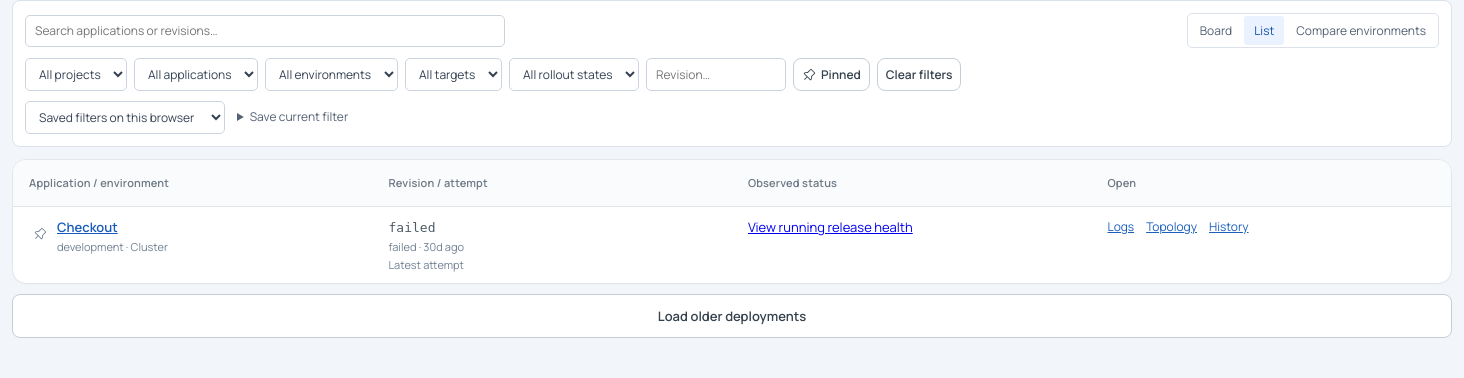
Test: opens list logs, topology and history in place and loads older search results
Click the link "Topology" at (1172,226), box top-left (1146, 218), bottom-right (1197, 234)
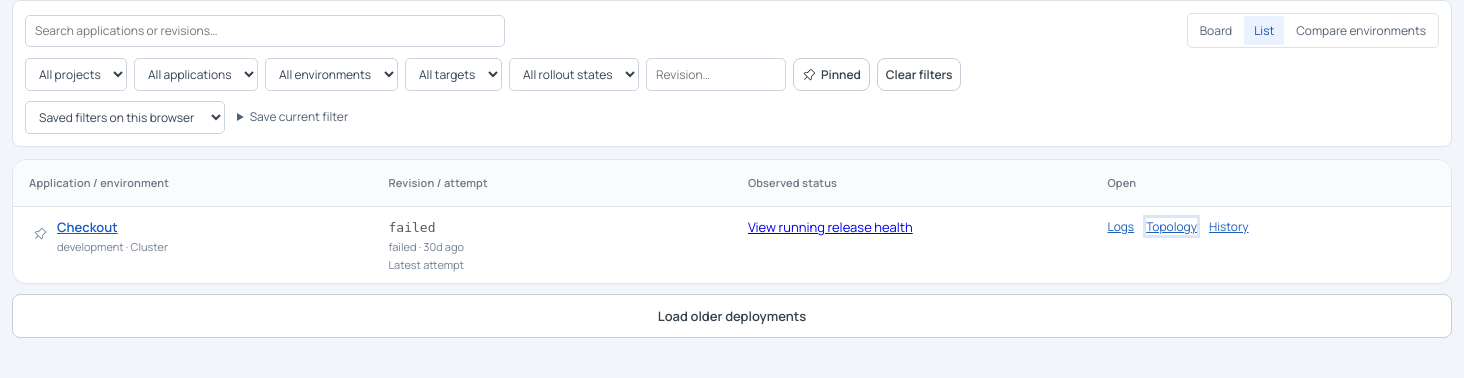
Click the button "Load older deployments" at (732,316), box top-left (12, 294), bottom-right (1452, 338)
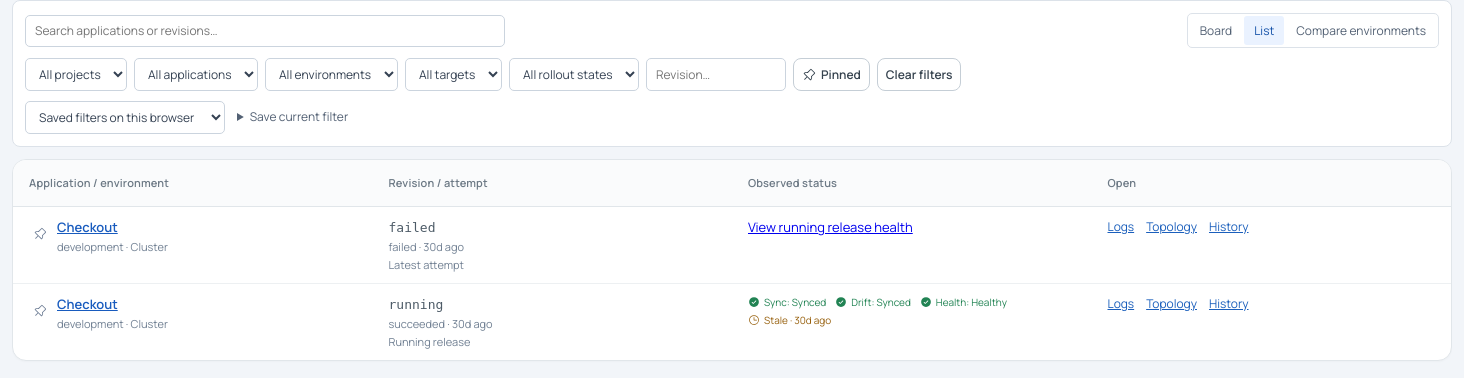
Now the text "Running release" is shown, box top-left (388, 334), bottom-right (470, 348)
